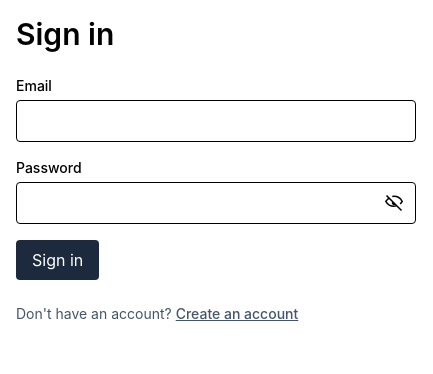
Test: LoginPage › shows invalid credentials and remains on login
In the field labelled "Email": (216, 121) [16,100,416,142], type "a@example.com"
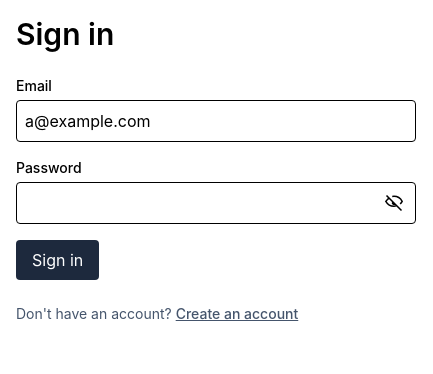
In the password field labelled "Password": (216, 203) [16,182,416,224], type "wrong"
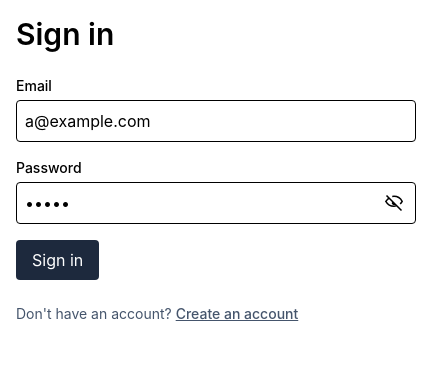
Click the button "Sign in": (58, 260) [16,240,99,280]
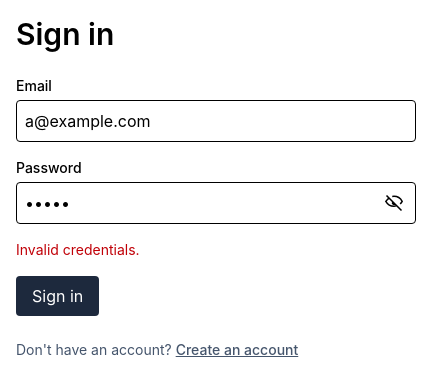
Expected: the heading "Sign in" is shown, [16,16,114,52]
Now the message reads "Invalid credentials.", box [16,241,140,258]
